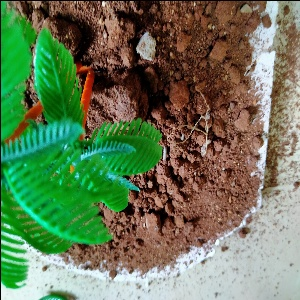plant: (1, 1, 163, 291)
